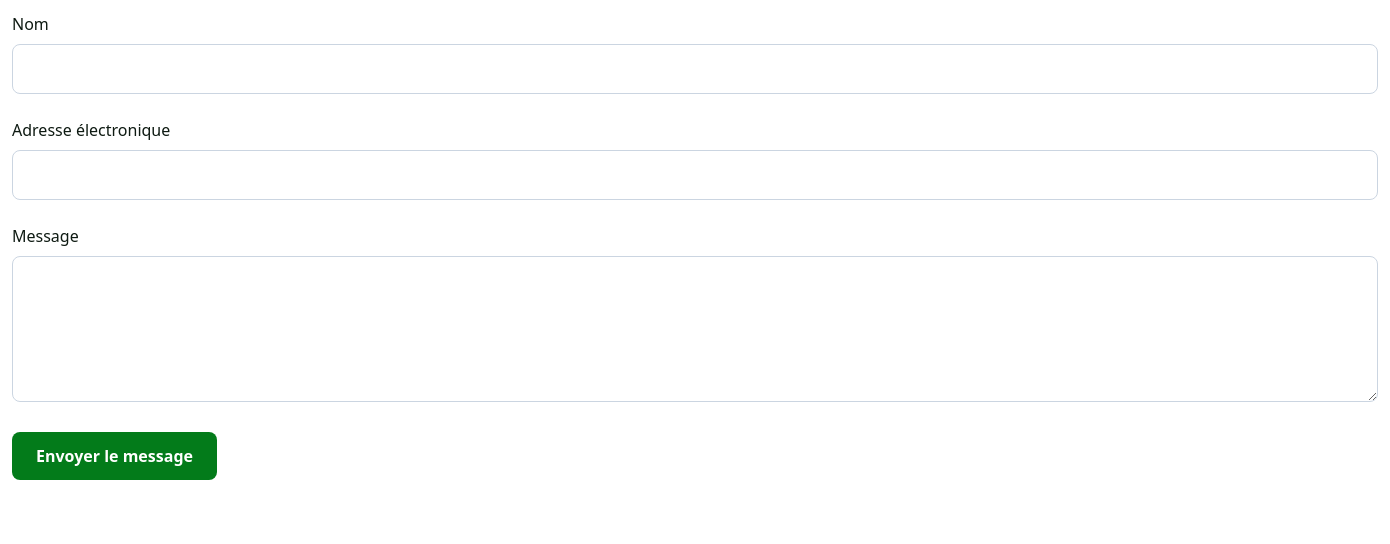
it: Formulaire de contact › affiche un texte en français et conserve la saisie après un échec réseau
Type "Ronald Bill" into the field labelled "Nom" at coordinates (695, 69), box [12,44,1378,94]
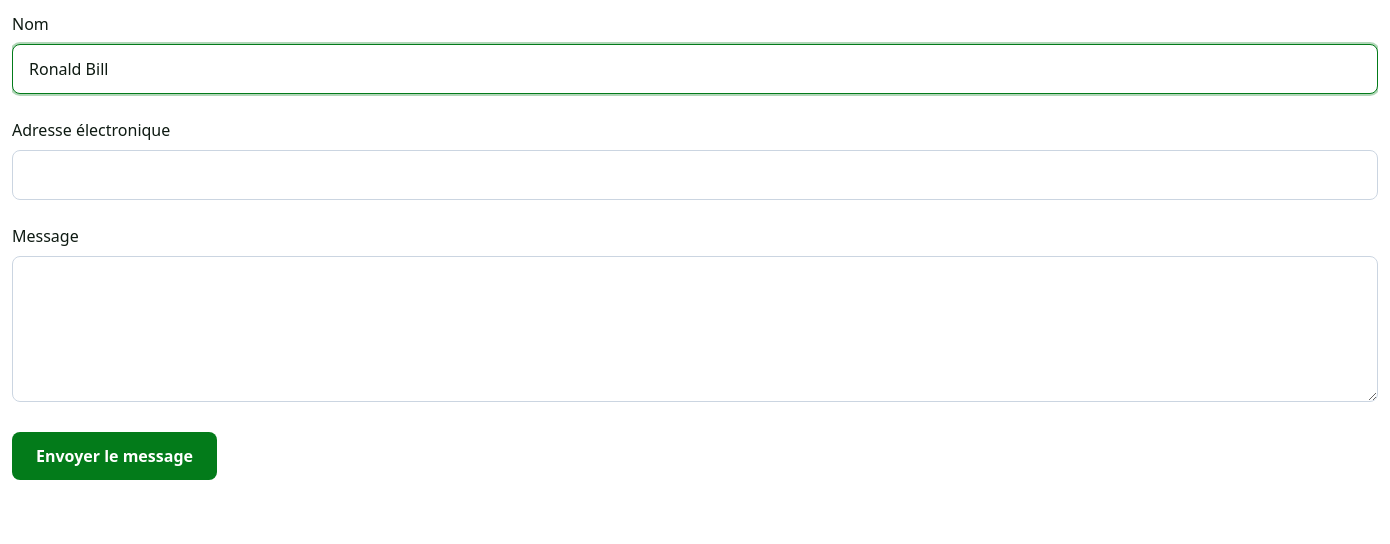
Type "ronald@exemple.test" into the field labelled "Adresse électronique" at coordinates (695, 175), box [12,150,1378,200]
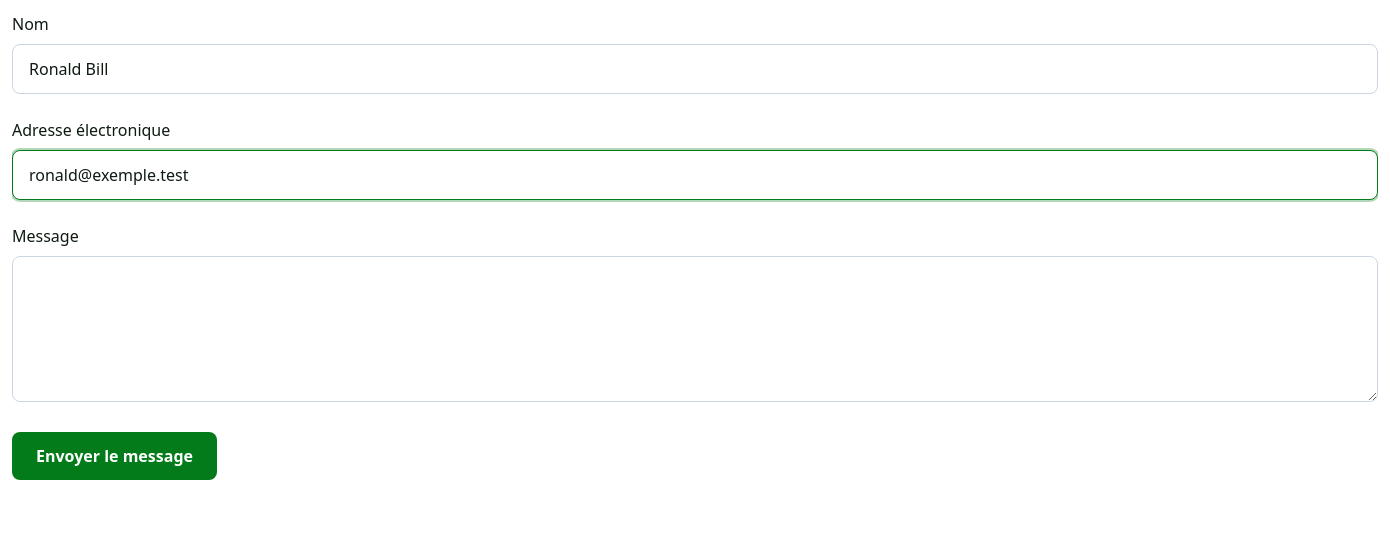
Type "Bonjour, je souhaite un devis pour un site vitrine." into the text box labelled "Message" at coordinates (695, 329), box [12,256,1378,402]
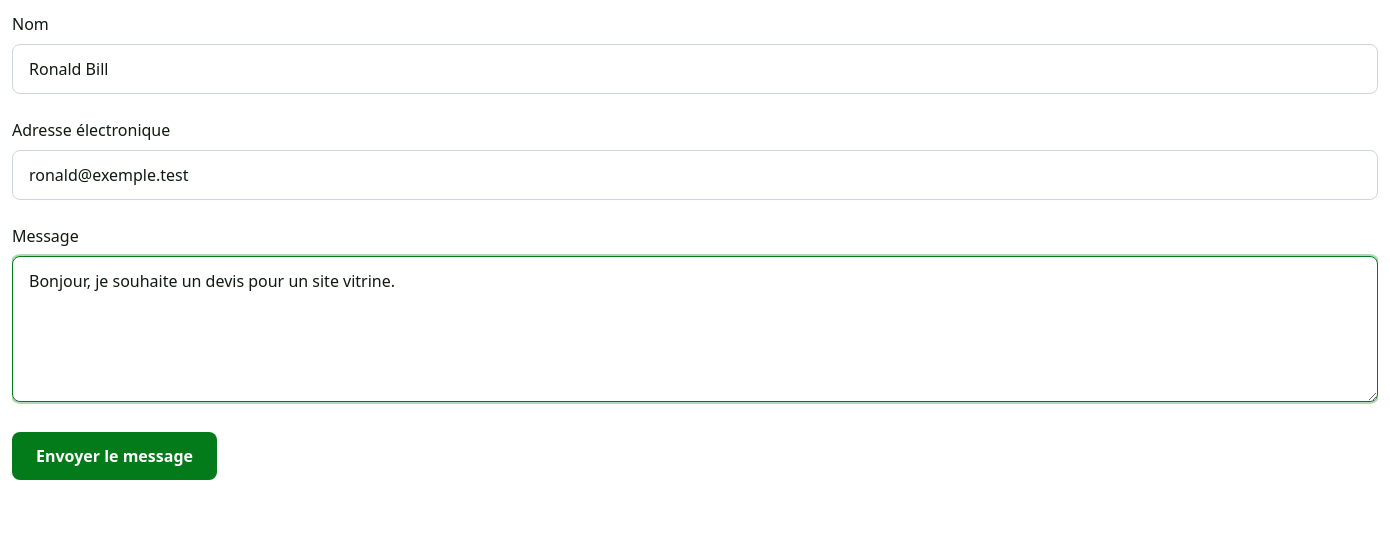
Click the button "Envoyer le message" at coordinates (114, 456), box [12,432,217,480]
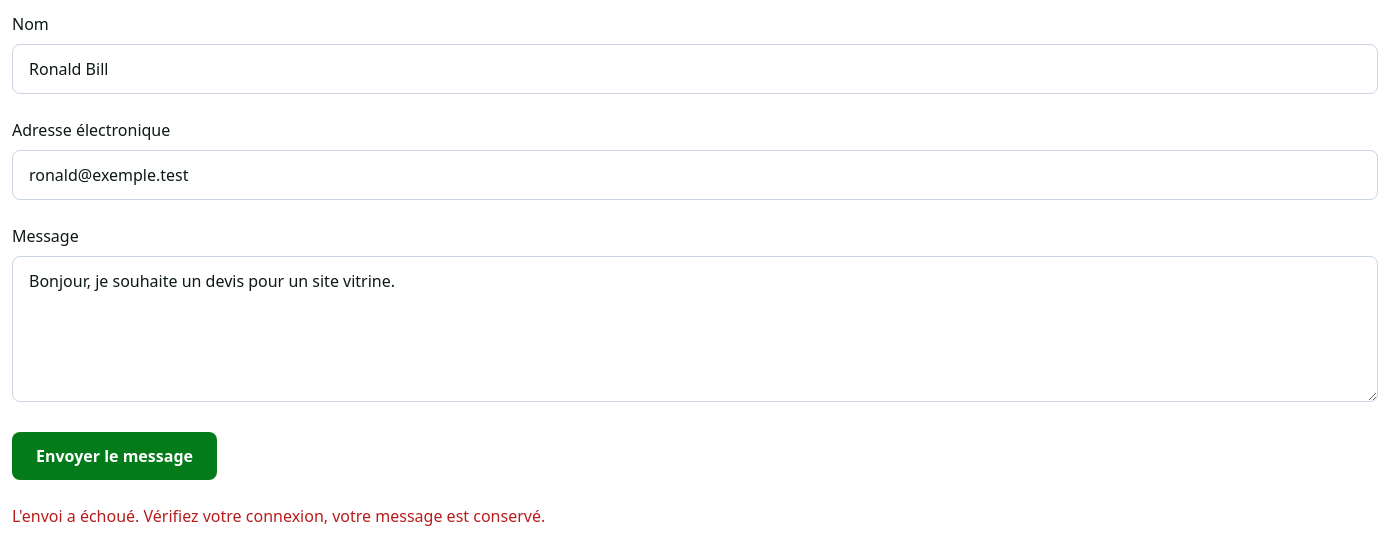
Check: the text "L'envoi a échoué" is shown, box [12,505,545,527]
